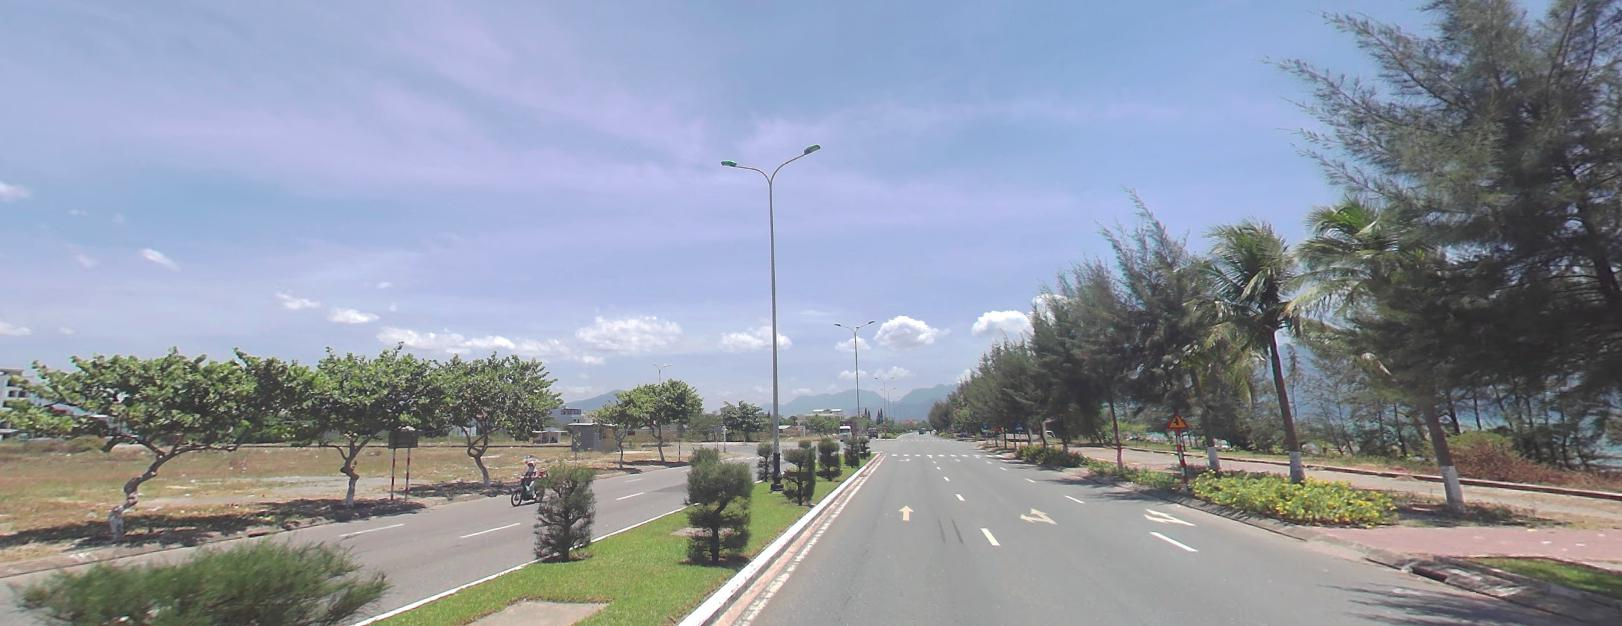Cam nguoc chieu: (882, 423, 885, 426)
Nguy hiem: (1167, 410, 1189, 429)
